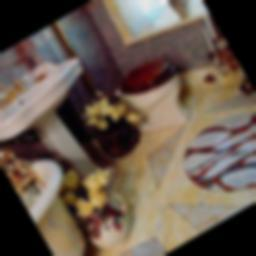Lavamanos: (0, 53, 106, 153)
Sanitario: (109, 46, 207, 146)
